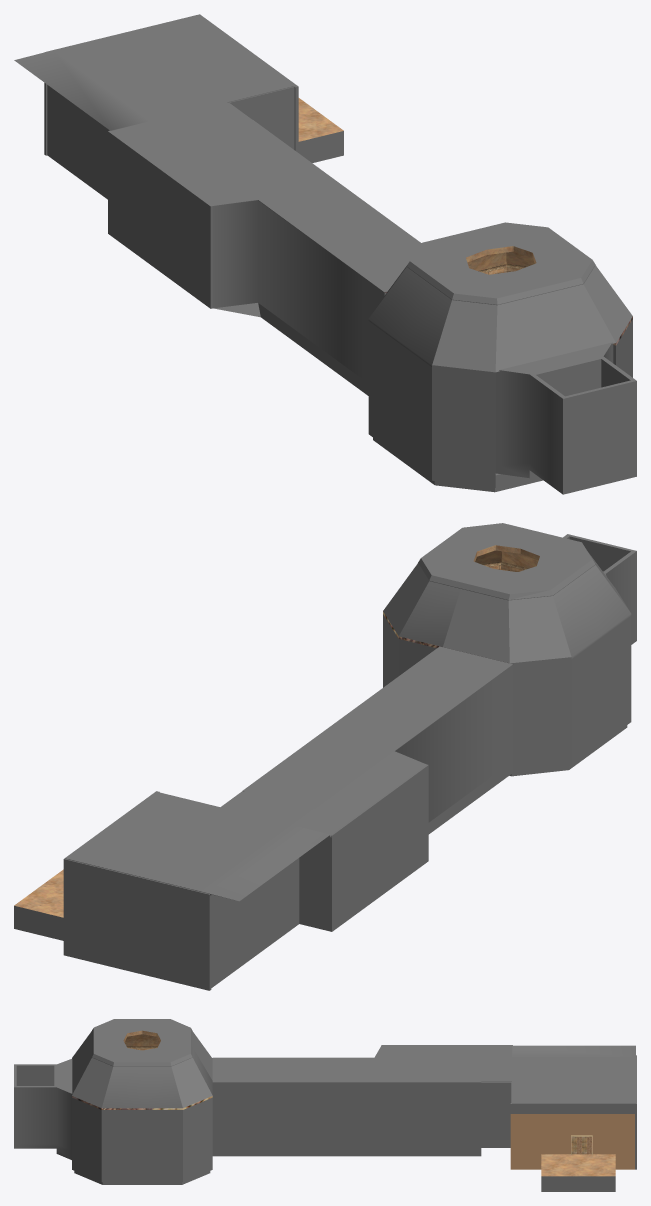
File: LVL2_Temple01.fbx
3 renders of one model, top to bottom at view 1: azimuth 30°, elevation 25°; view 2: azimuth 150°, elevation 25°; view 3: azimuth 270°, elevation 25°, orthographic. The views are drawn at different scales.
Visible parts, largest first — view 1: lvl2part1, lvl2part2, Box082, Box101; view 2: lvl2part1, lvl2part2, Box082, Box101; view 3: lvl2part1, lvl2part2, Box082, Box101, Box107.
Part boxes in pixels (x1,y1,x2,y2): lvl2part1: (175,119,632,492); lvl2part2: (14,14,298,308); Box082: (495,342,636,494); Box101: (298,98,343,162); lvl2part1: (242,523,631,834); lvl2part2: (63,755,428,990); Box082: (501,534,636,644); Box101: (14,869,63,940); lvl2part1: (72,1019,481,1184); lvl2part2: (381,1045,636,1169); Box082: (14,1059,72,1159); Box101: (541,1154,615,1191); Box107: (571,1136,591,1154).
Size of the model in its own units: 5488 by 3625 by 17905.
